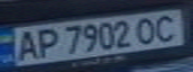0: (97, 19, 118, 51)
2: (112, 17, 136, 48)
7: (60, 22, 84, 55)
9: (78, 20, 100, 53)
A: (9, 28, 42, 62)
C: (148, 11, 187, 43)
O: (133, 15, 163, 45)
P: (30, 26, 60, 60)
